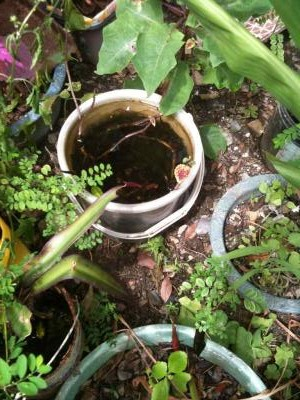bucket: (51, 85, 206, 243)
